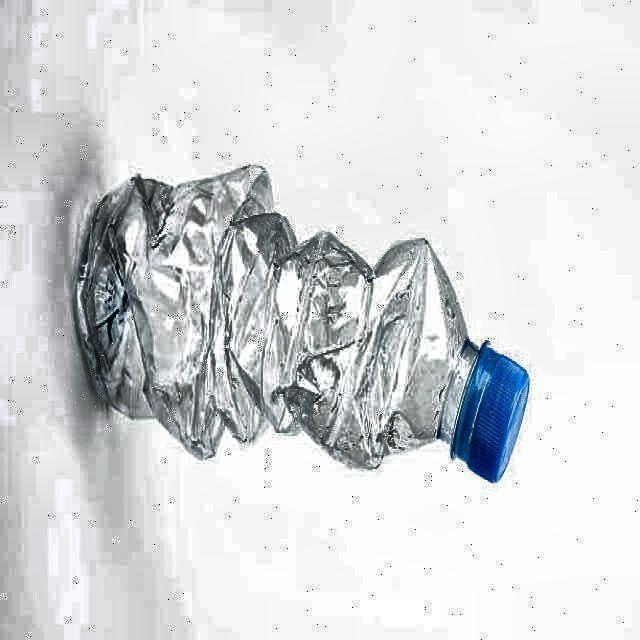plastic: (76, 166, 529, 481)
